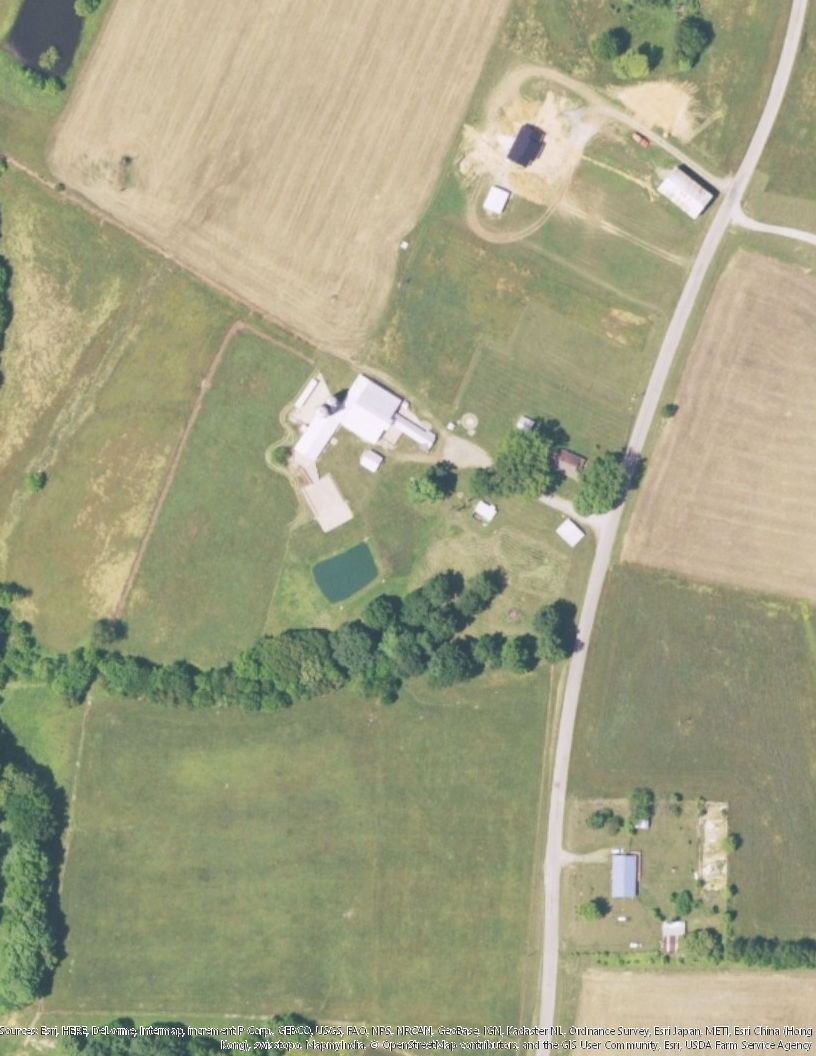cafo: (281, 376, 438, 532)
